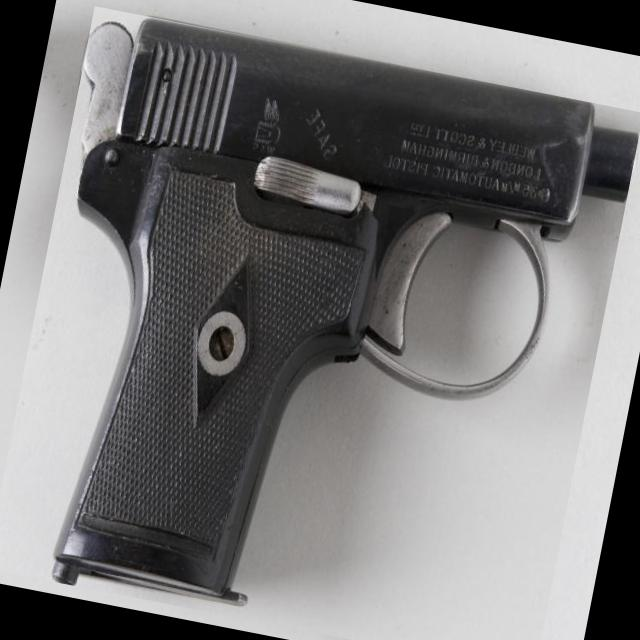Gun: (54, 21, 638, 603)
